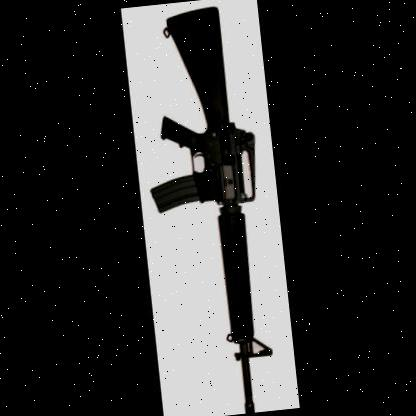rifle: (130, 0, 288, 416)
